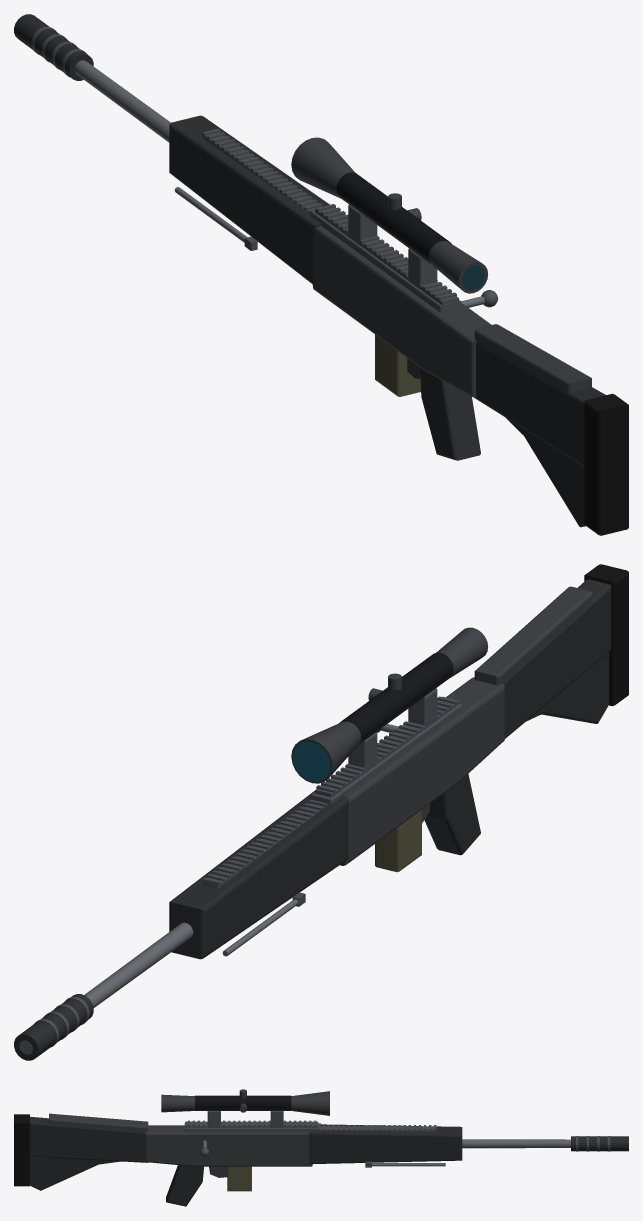
Rendered from SR7_sniper.glb.
3 renders of one model, top to bottom at view 1: azimuth 30°, elevation 25°; view 2: azimuth 150°, elevation 25°; view 3: azimuth 270°, elevation 25°, orthographic. The views are drawn at different scales.
Bounding box in the file's own units: 0.1155 × 0.2585 × 1.28.
